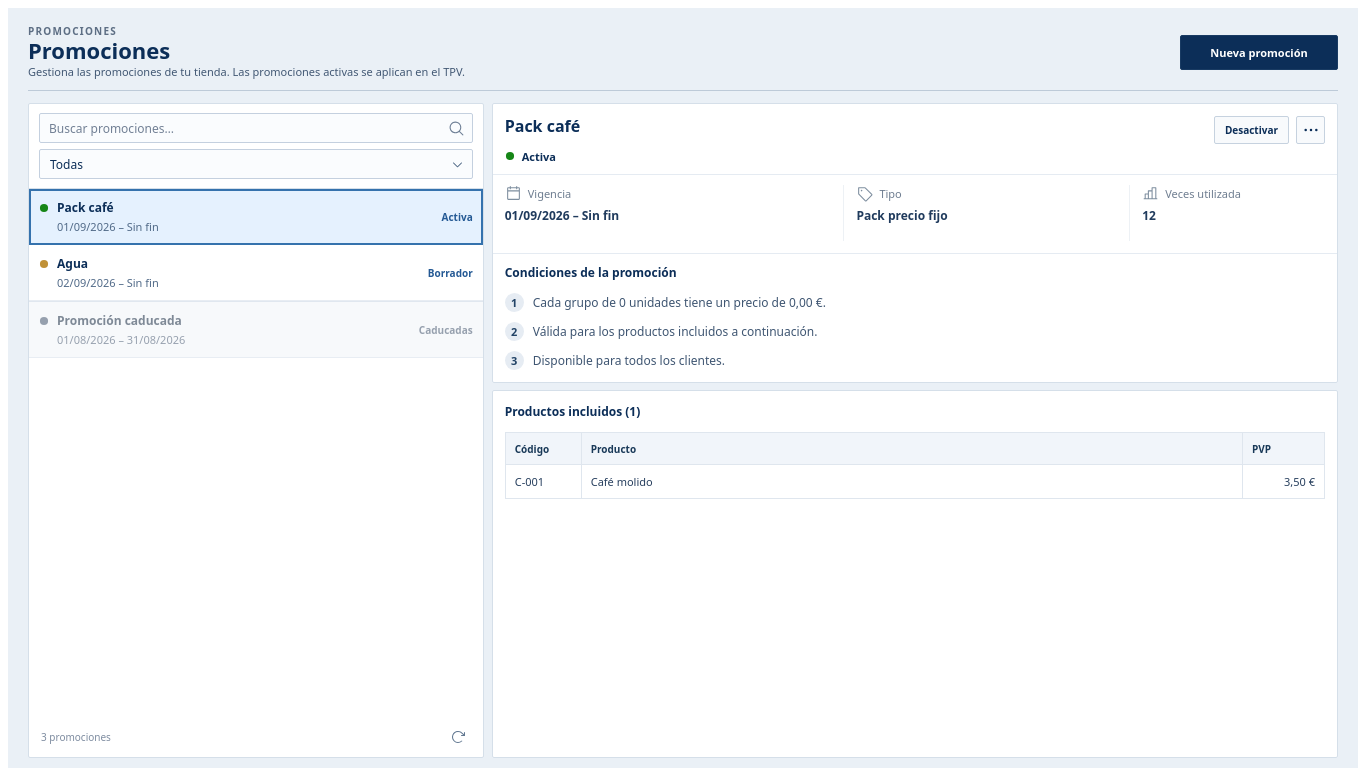
Test case: Promotion list filters and detail › filters without accents and clearing the query preserves the selected promotion
Click the button "Agua 02/09/2026 – Sin fin Borrador" at {"x": 73, "y": 263}, box [29,245,483,301]
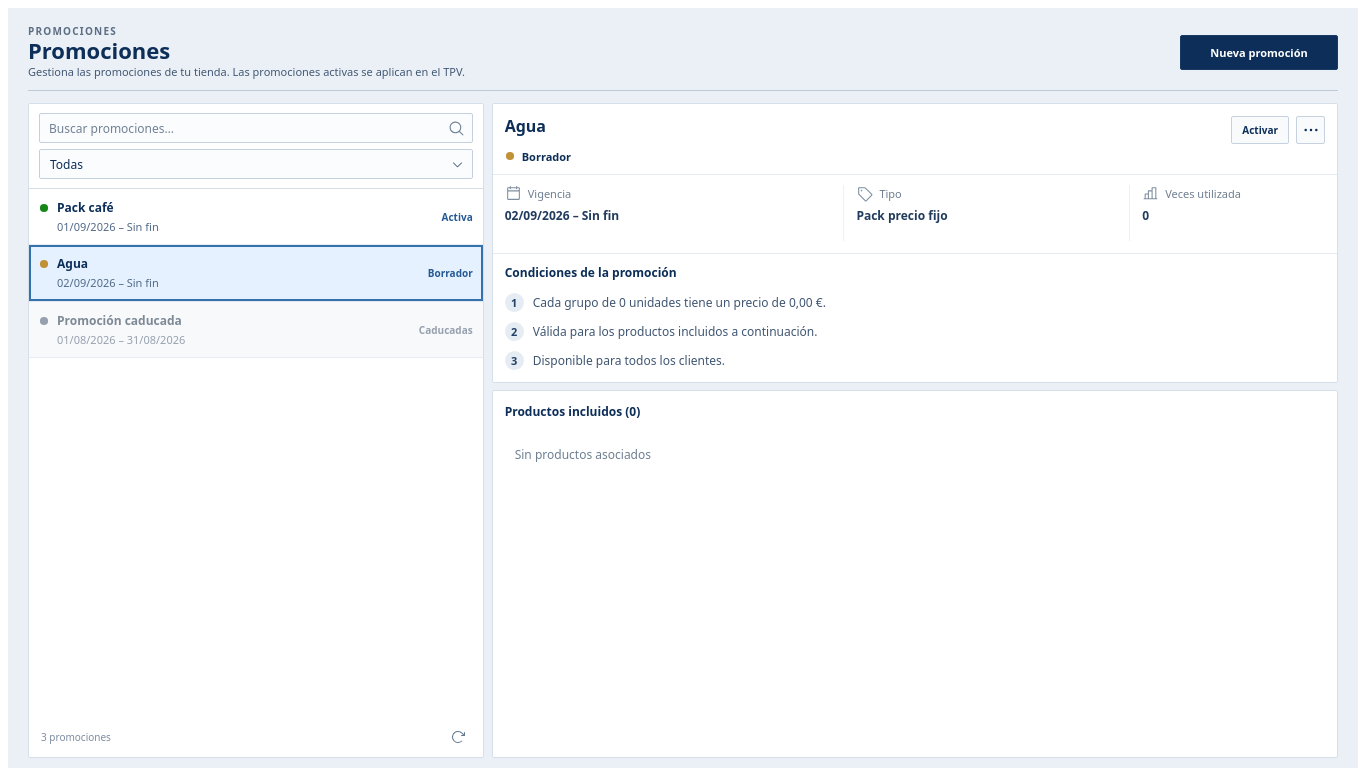
Expected: the heading "Agua" is shown, [505,115,546,137]
Type " cafe " into the search field labelled "Buscar" at {"x": 256, "y": 128}, box [39,113,473,143]
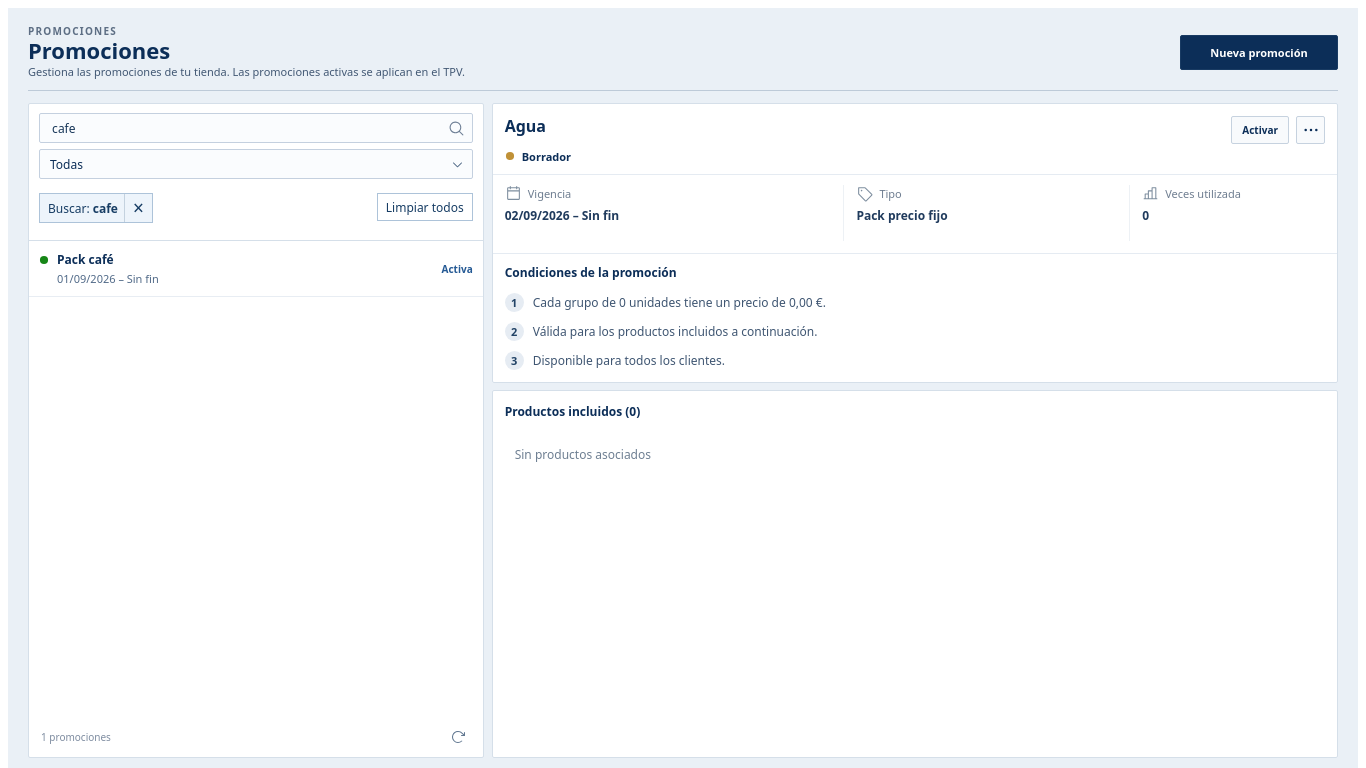
Expected: the heading "Agua" is shown, [505,115,546,137]
Expected: the button "Agua 02/09/2026 – Sin fin Borrador" is gone
Expected: the element named "Filtros aplicados" shows "Buscar: cafe", [39,193,473,223]
Click the button named "Quitar filtro Buscar" at {"x": 138, "y": 208}, box [124,194,152,222]
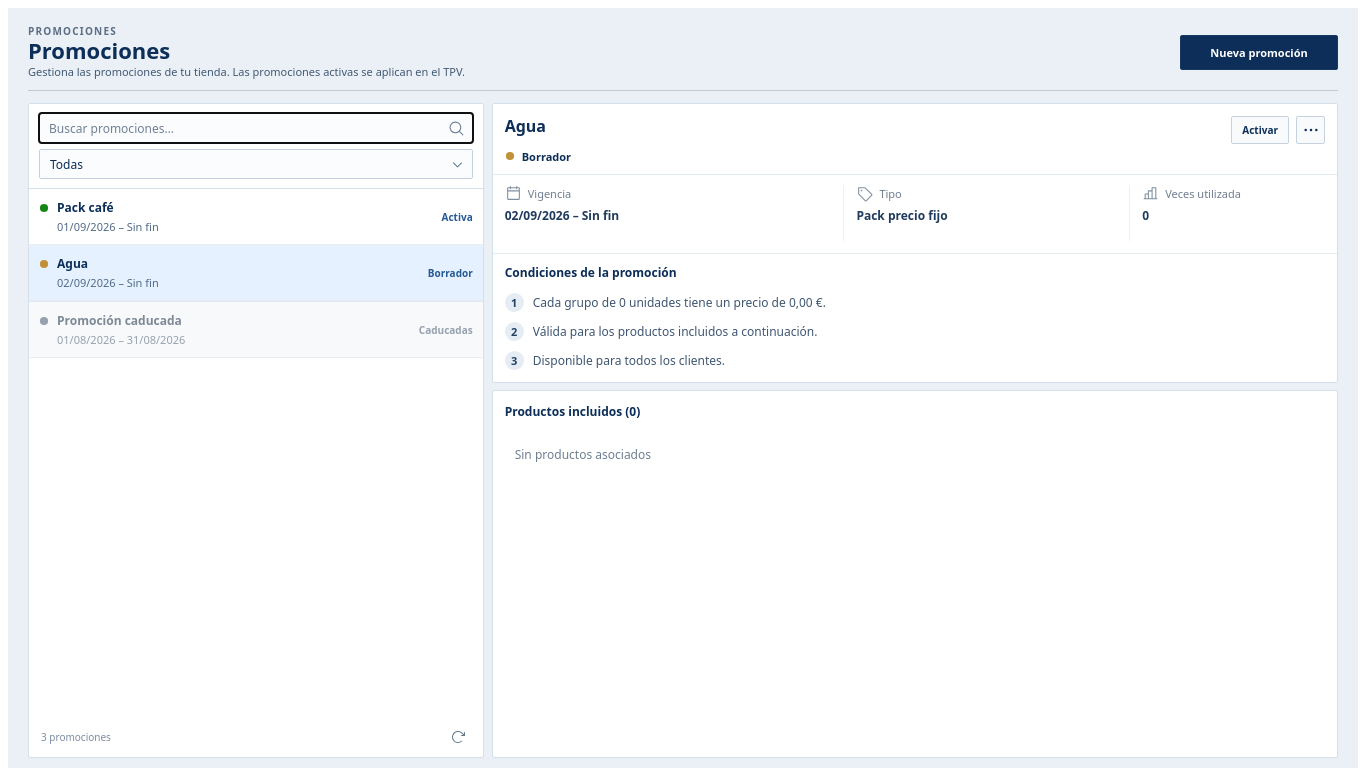
Expected: the search field labelled "Buscar" is empty, [39,113,473,143]
